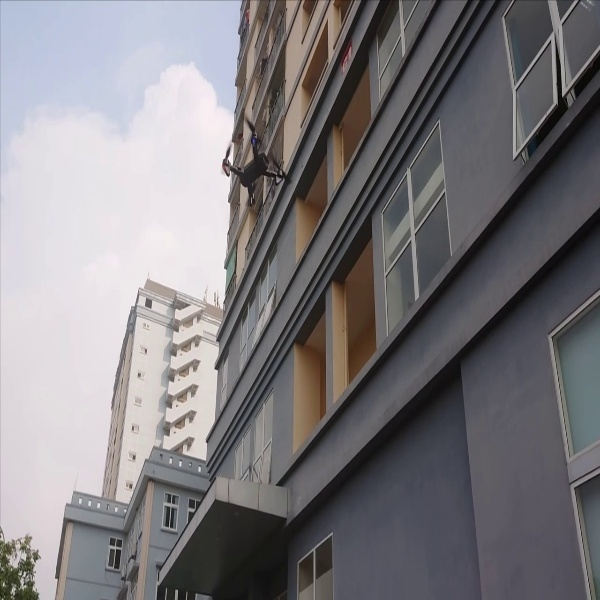drone: (206, 114, 298, 213)
